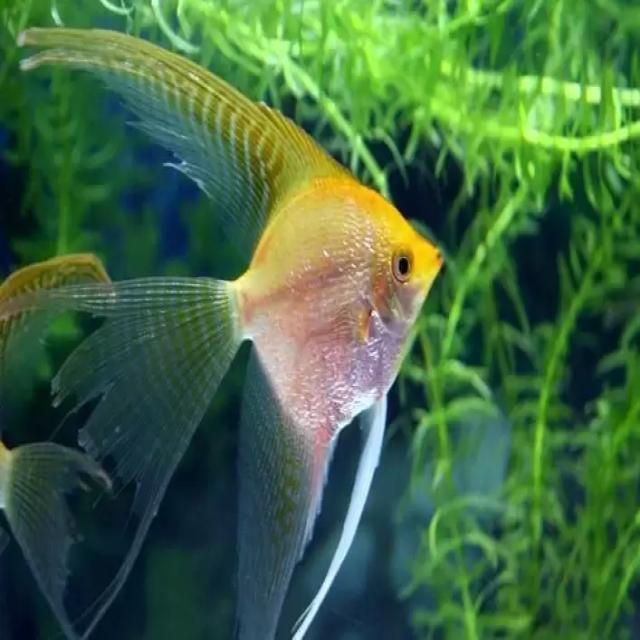AngelFish: (23, 27, 447, 636)
